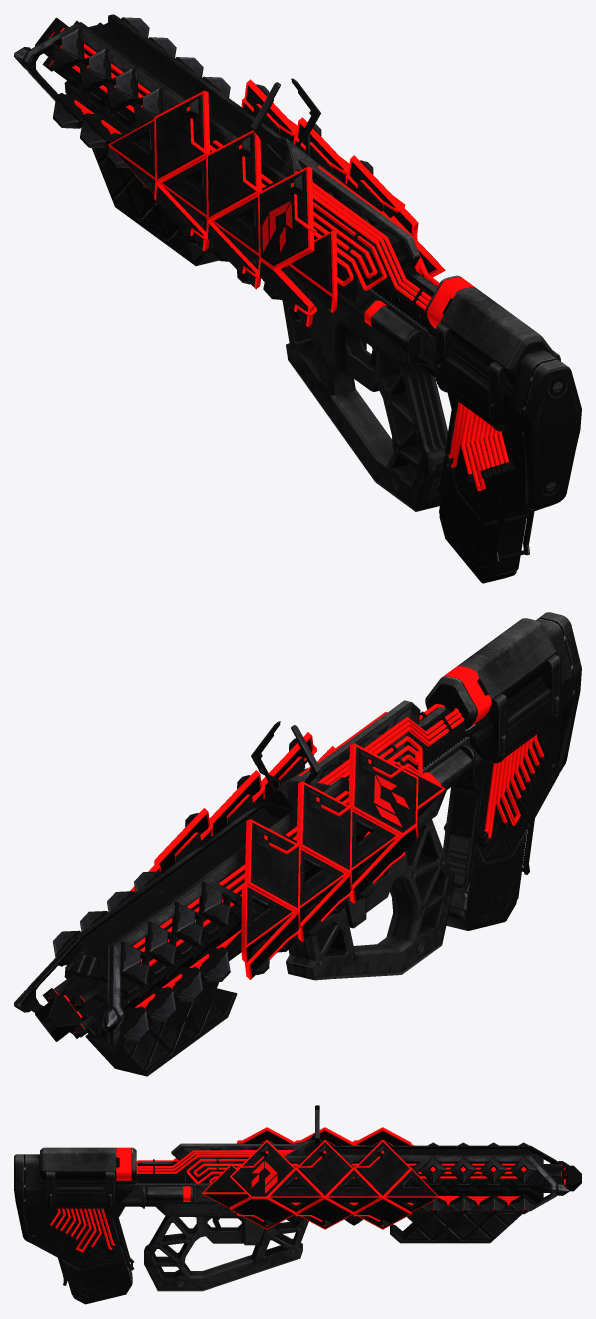
Rendered from outbreak.glb.
3 renders of one model, top to bottom at view 1: azimuth 30°, elevation 25°; view 2: azimuth 150°, elevation 25°; view 3: azimuth 270°, elevation 25°, orthographic. The views are drawn at different scales.
Visible parts, largest first — view 1: Object_8; view 2: Object_8; view 3: Object_8.
Part boxes in pixels (left/top/right/bottom): Object_8: left=14, top=14, right=581, bottom=583; Object_8: left=14, top=612, right=581, bottom=1076; Object_8: left=14, top=1105, right=581, bottom=1304.
Bounding box in the file's own units: 1.13 × 2.59 × 6.89.
Materials: 5 (2 with a texture image).
